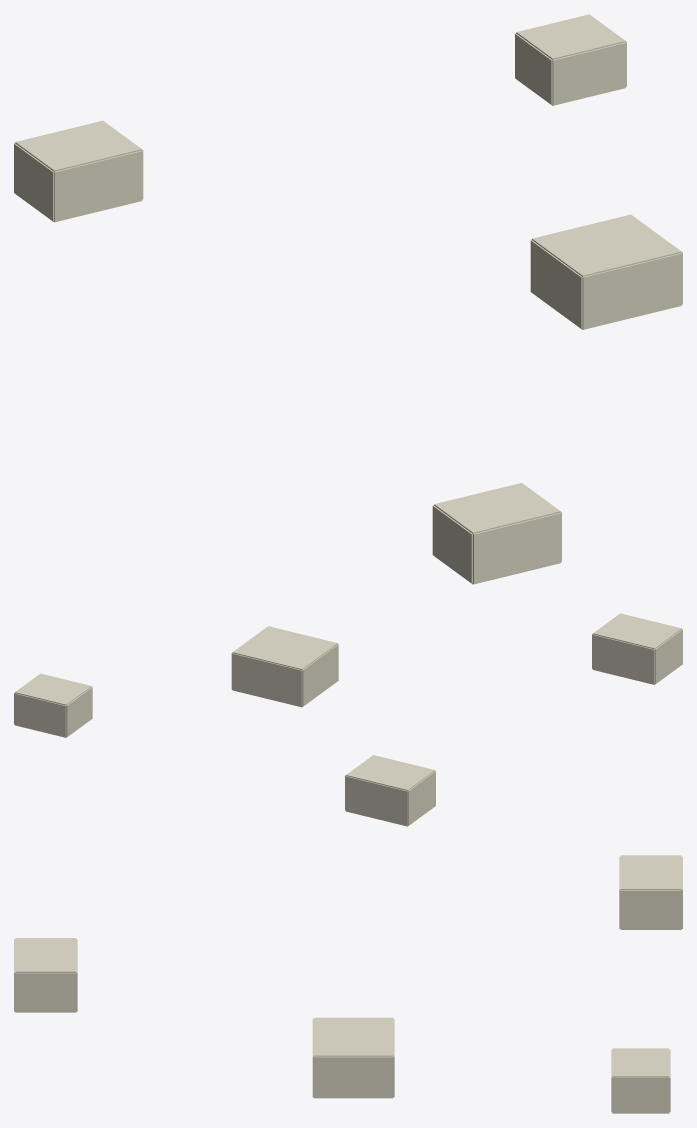
The model's file is SM_Plaster.fbx.
The picture shows the model from 3 angles, top to bottom: view 1: azimuth 30°, elevation 25°; view 2: azimuth 150°, elevation 25°; view 3: azimuth 270°, elevation 25°; orthographic projection. The views are drawn at different scales.
Visible parts, largest first — view 1: SM_Plaster; view 2: SM_Plaster; view 3: SM_Plaster.
Part boxes in pixels (<box>): SM_Plaster: <box>14,14,682,584</box>; SM_Plaster: <box>14,613,682,826</box>; SM_Plaster: <box>14,855,682,1113</box>.
Bounding box in the file's own units: 5035 × 6520 × 1190.
